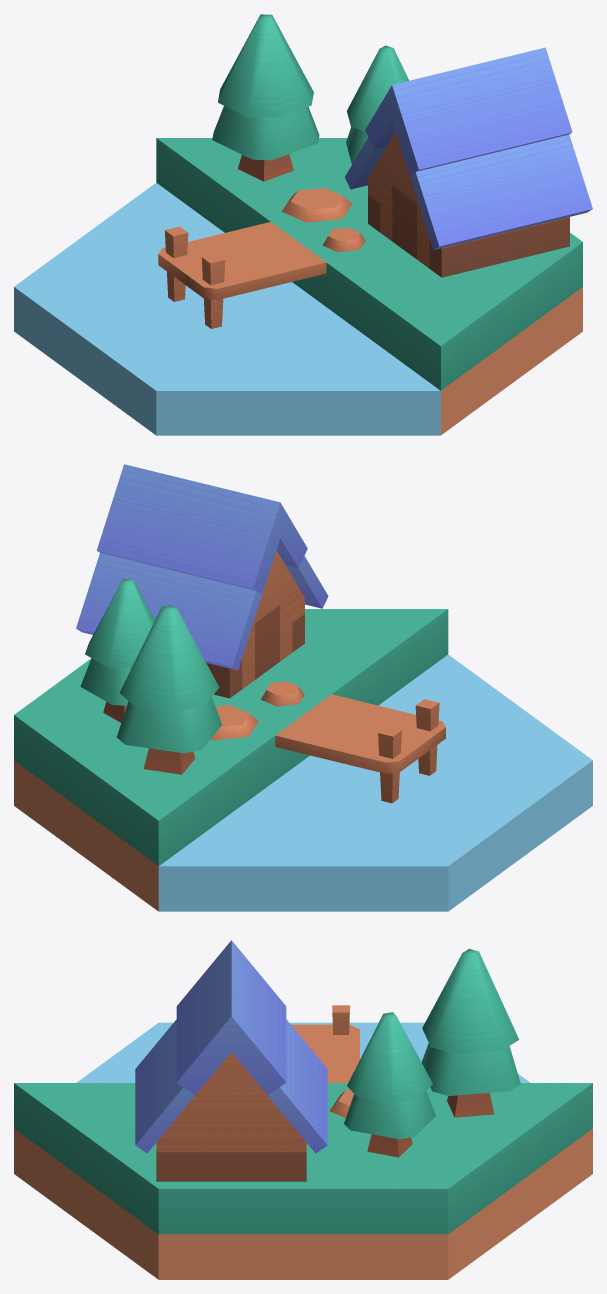
The model's file is building-dock_lev2.glb.
The picture shows the model from 3 angles, top to bottom: view 1: azimuth 30°, elevation 25°; view 2: azimuth 150°, elevation 25°; view 3: azimuth 270°, elevation 25°; orthographic projection.
Visible parts, largest first — view 1: building-dock_lev2; view 2: building-dock_lev2; view 3: building-dock_lev2.
Part boxes in pixels (x1,y1,x2,y2): building-dock_lev2: (14,14,592,435); building-dock_lev2: (14,464,592,911); building-dock_lev2: (14,940,592,1279).
Bounding box in the file's own units: 10 × 5.78 × 11.55.
Materials: 1 (1 with a texture image).
